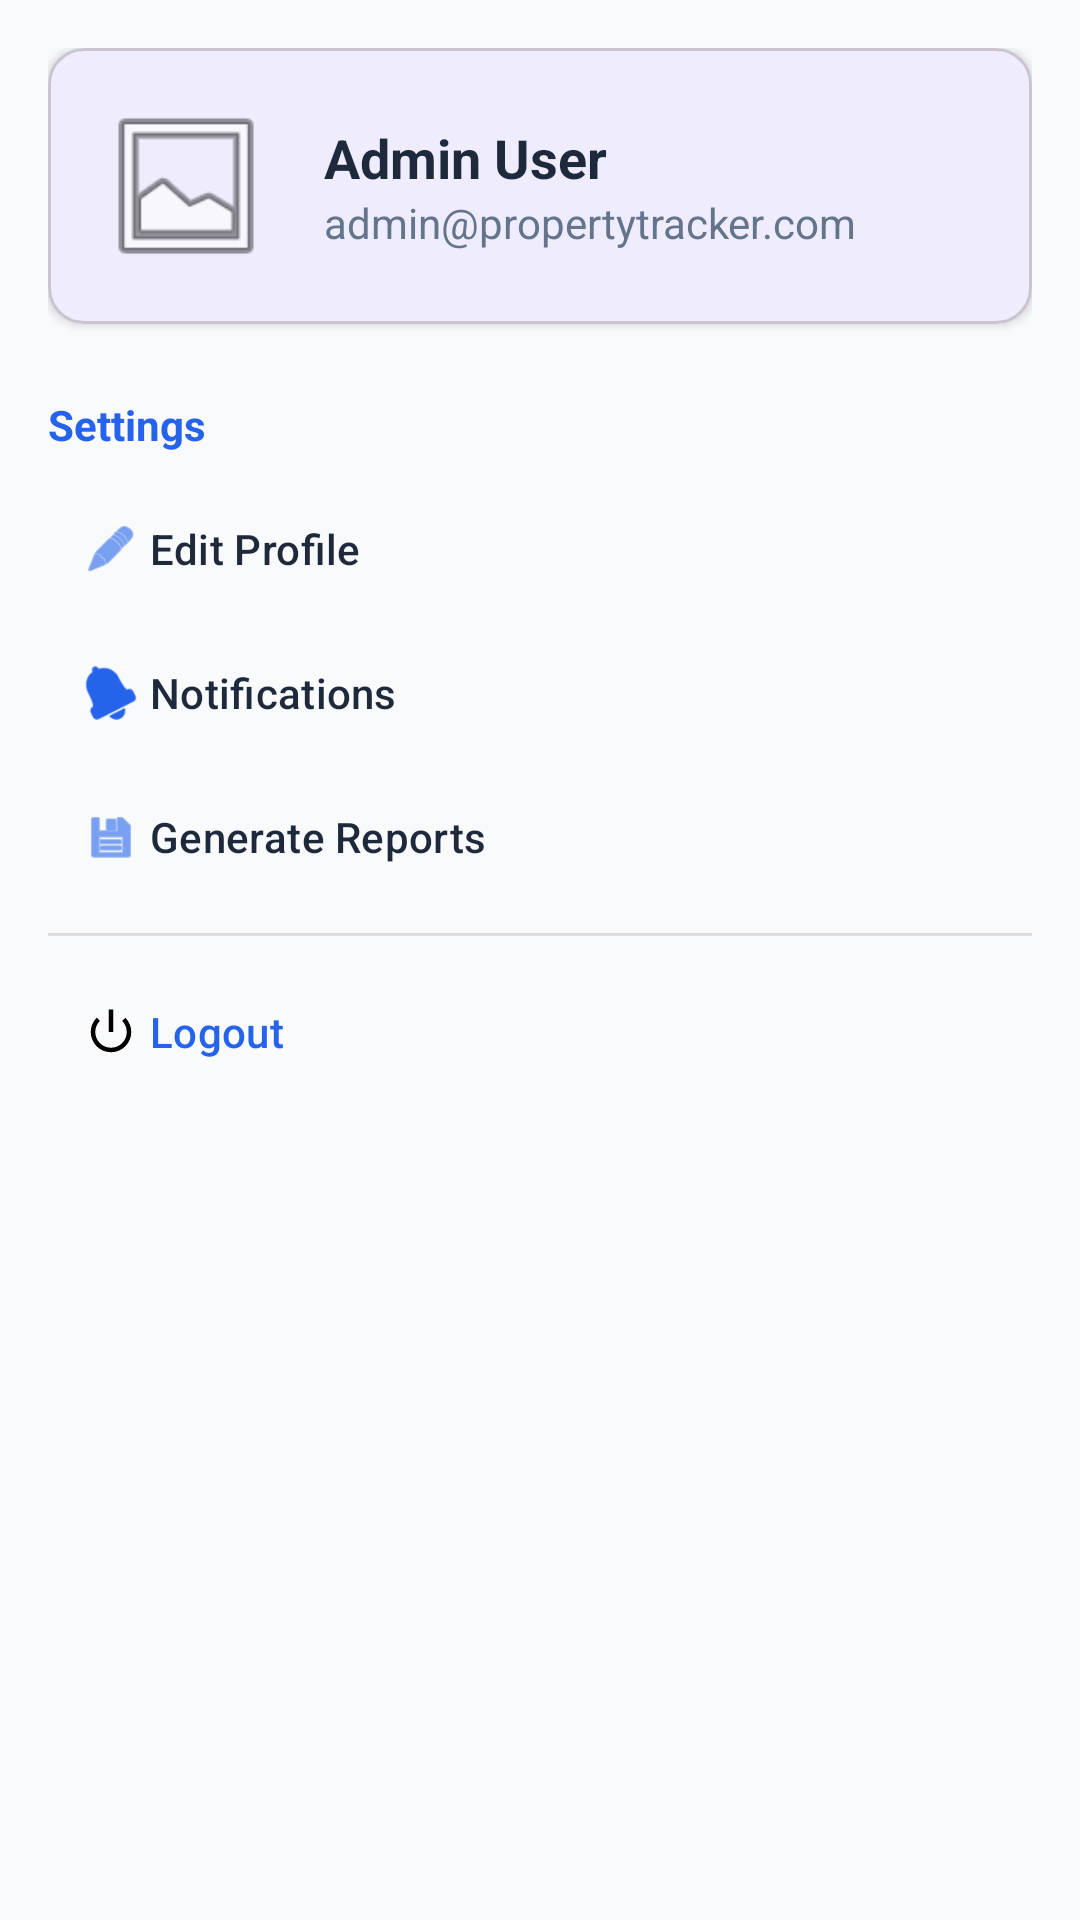

Icons on this 1080 × 1920 Android screen, each with the point to tap as (x,y):
gallery: (186,186)
